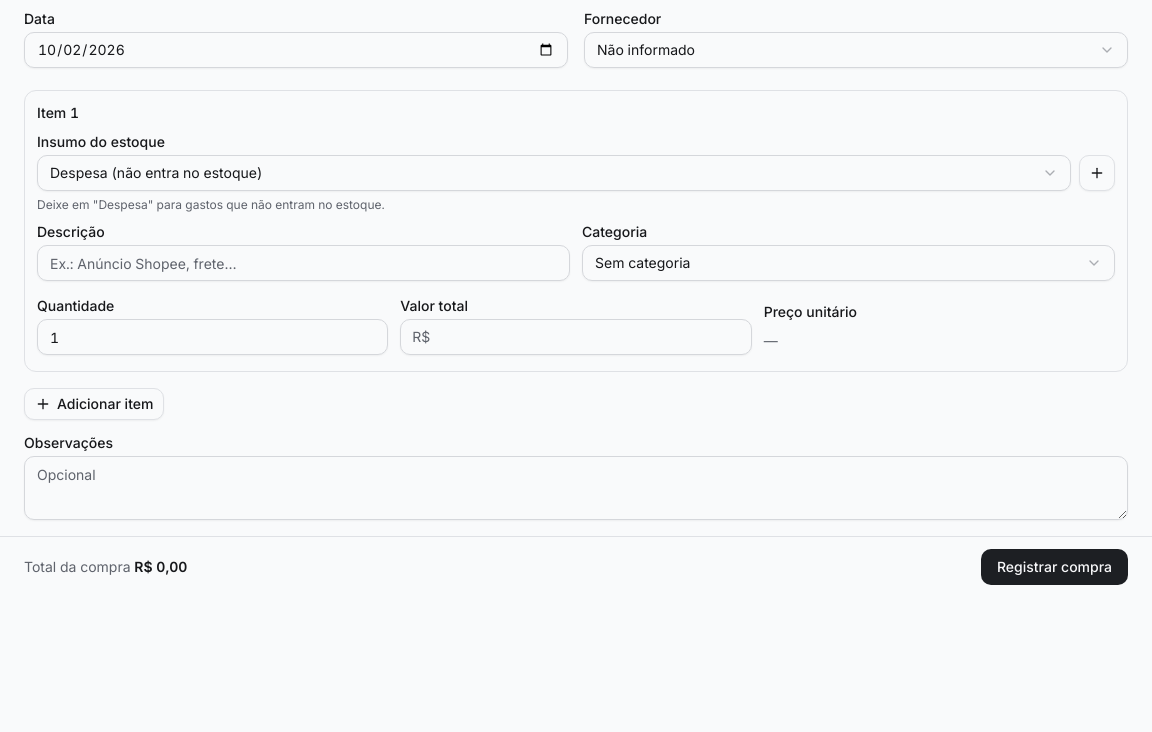
PurchaseForm › shows the unit price as you type (100 argolas por R$ 34,11)
The width and height of the screenshot is (1152, 732).
Replace the text in the field labelled "Quantidade" with "100": (213, 337) x1=37 y1=319 x2=388 y2=355
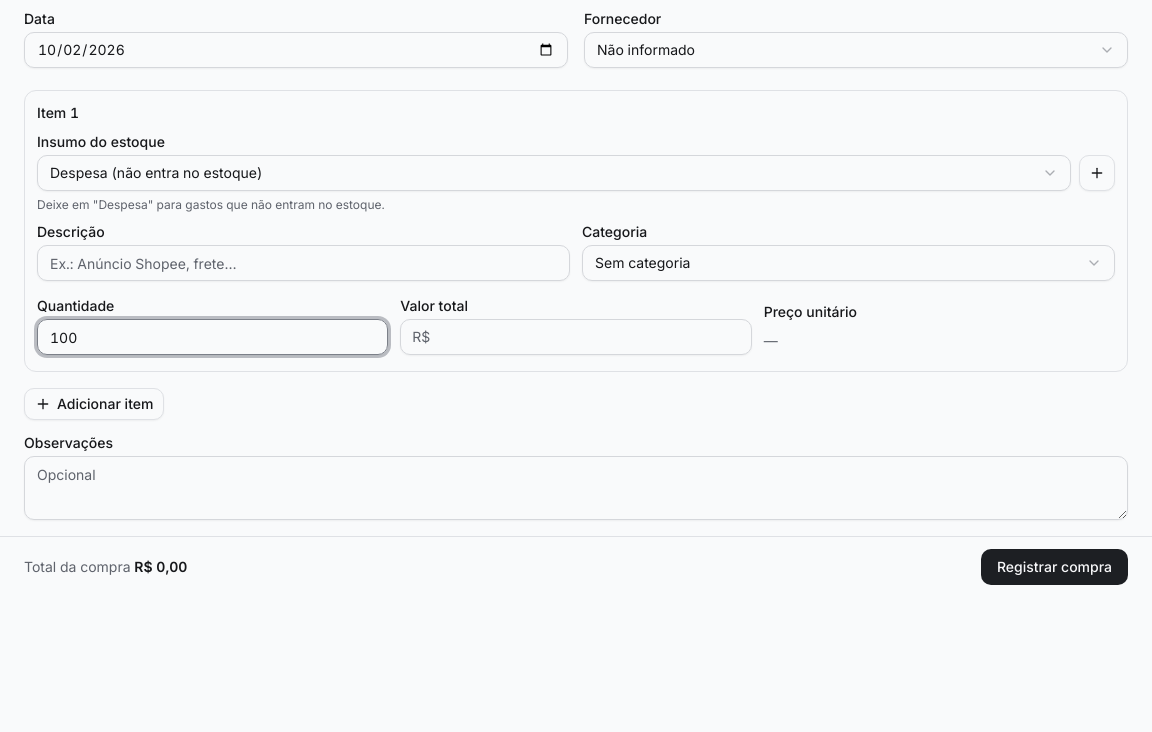
In the field labelled "Valor total": (576, 337) x1=400 y1=319 x2=752 y2=355, type "34,11"
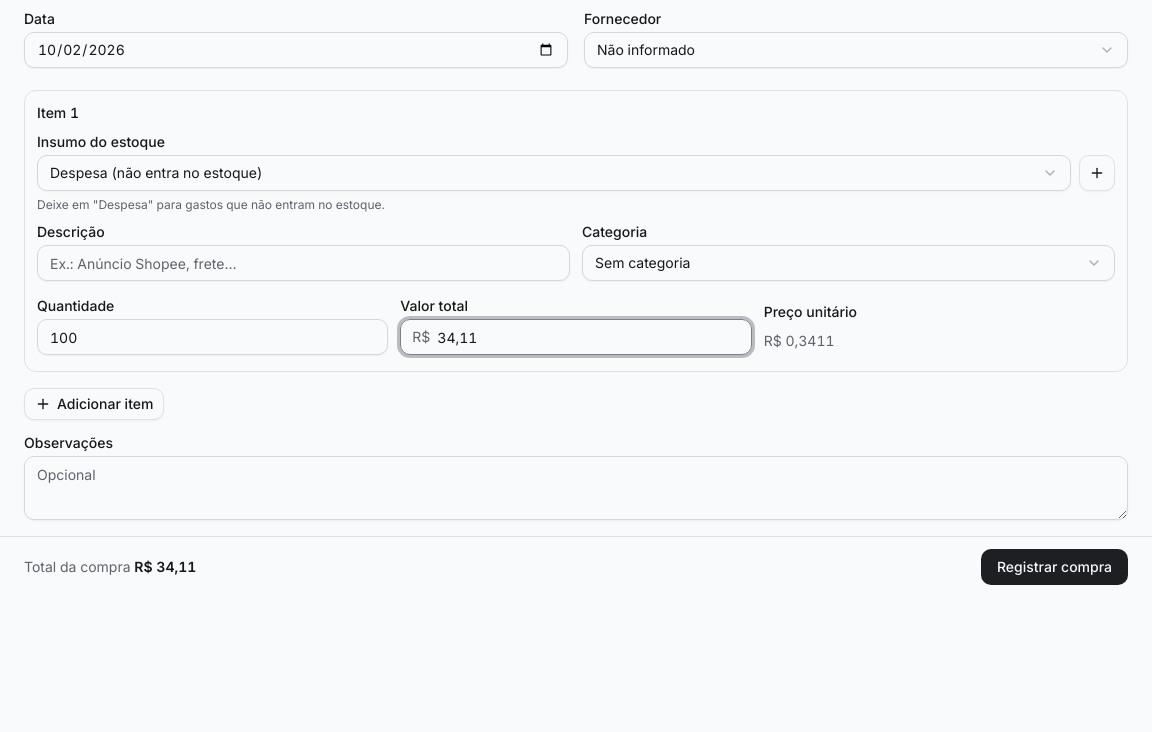
Check: the text "R$ 0,3411" is shown, box x1=764 y1=332 x2=835 y2=349
